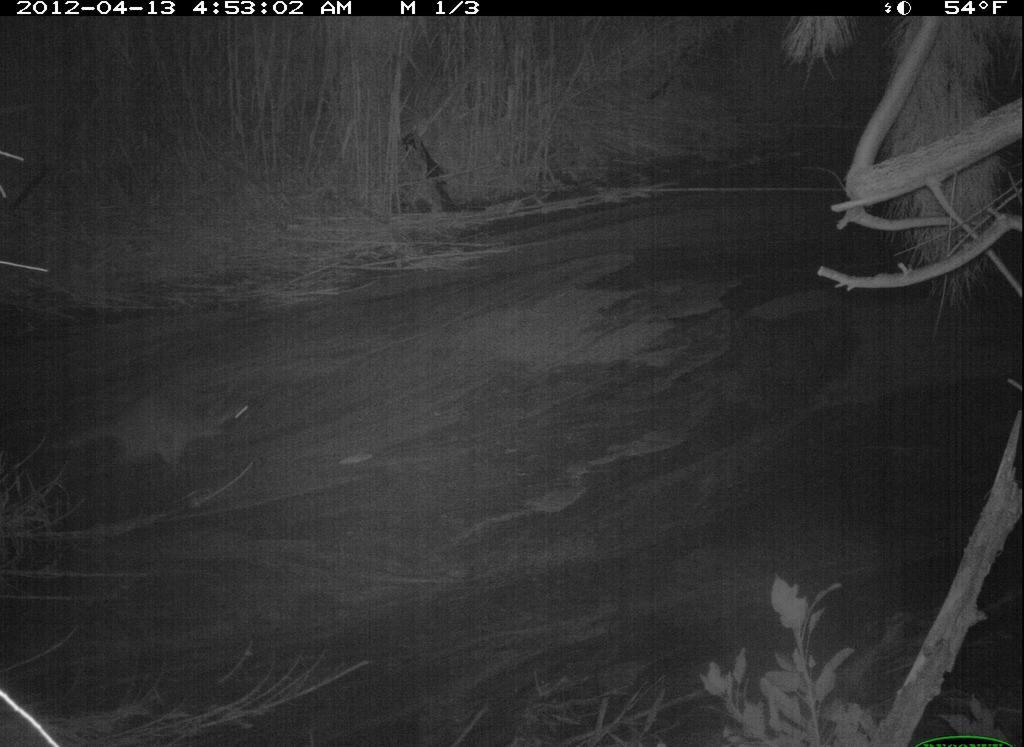raccoon: (29, 370, 271, 484)
